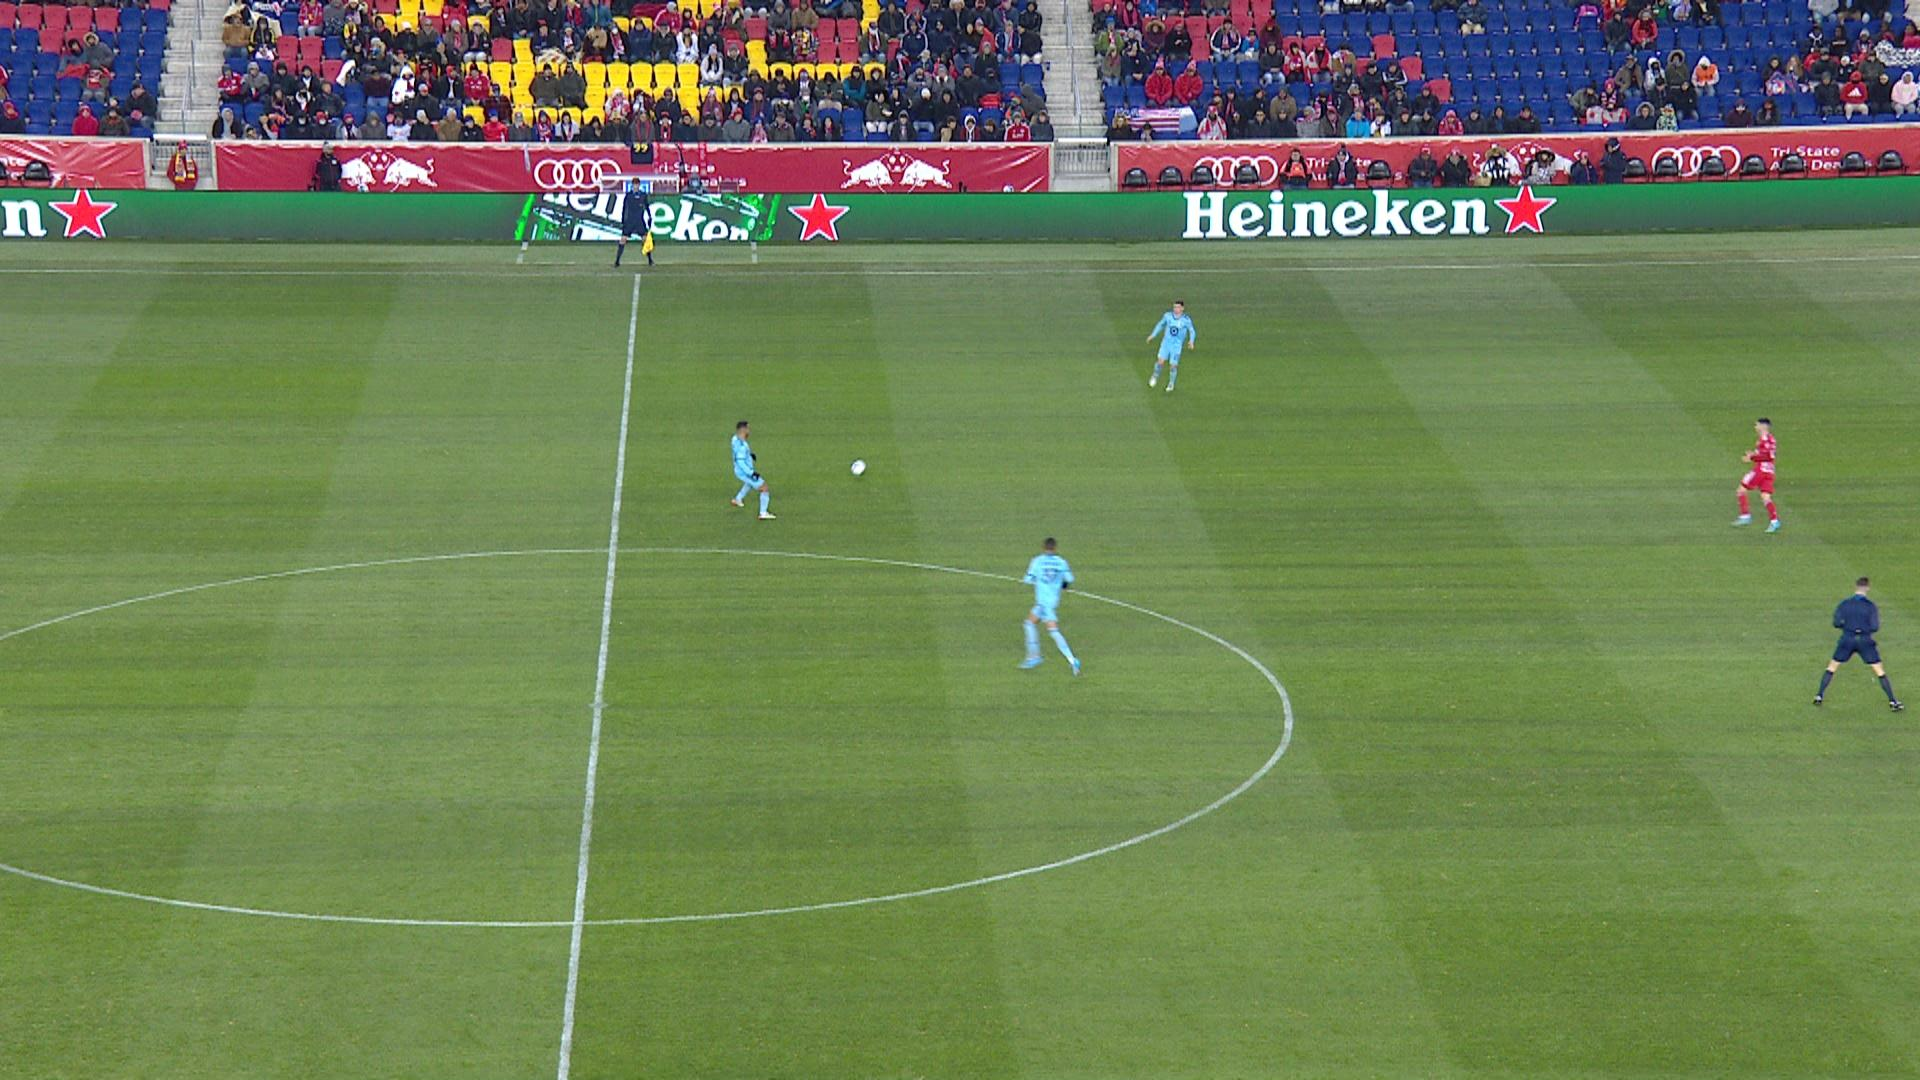football: (849, 459, 868, 477)
